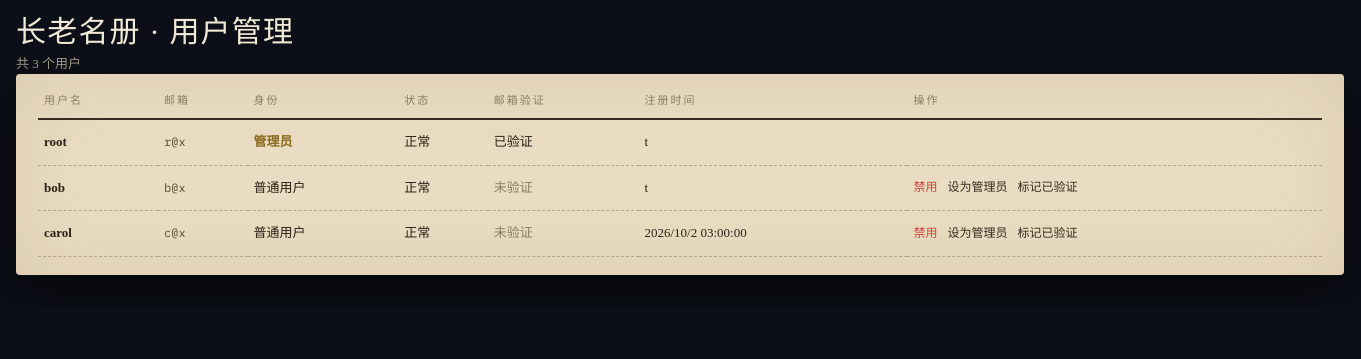
Test case: AdminUsers › 两行并发失败各自显示错误、互不覆盖；注册时间按本地格式显示（issue #120）
The width and height of the screenshot is (1361, 359).
Expected: the text "carol" is shown, [44,226,72,240]
Expected: the text "carol" shows "2026", [644,226,747,240]
Step 1. Click the button with aria-label "禁用 bob" → (925, 188), box [913,178,937,198]
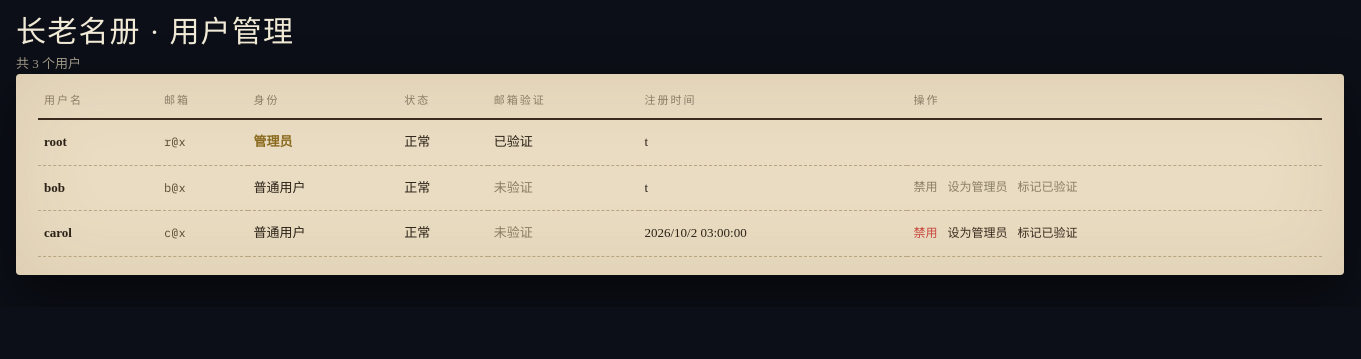
Step 2. Click the button with aria-label "禁用 carol" → (925, 234), box [913,224,937,244]
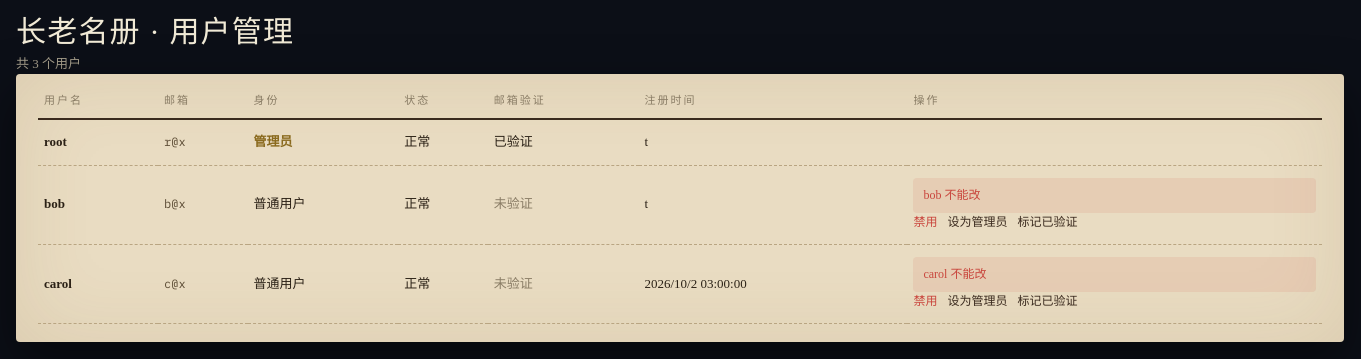
Now the text "carol 不能改" is shown, box [913,257,1316,292]
Now the text "bob 不能改" is shown, box [913,178,1316,213]
